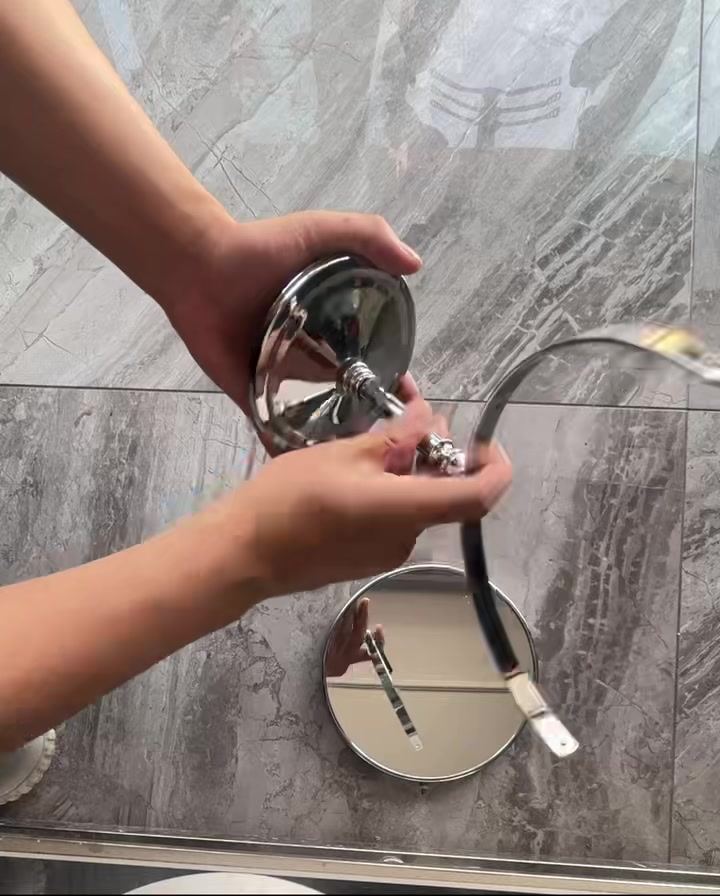base: (246, 244, 414, 456)
frame: (363, 305, 711, 786)
mirror: (311, 558, 586, 795)
